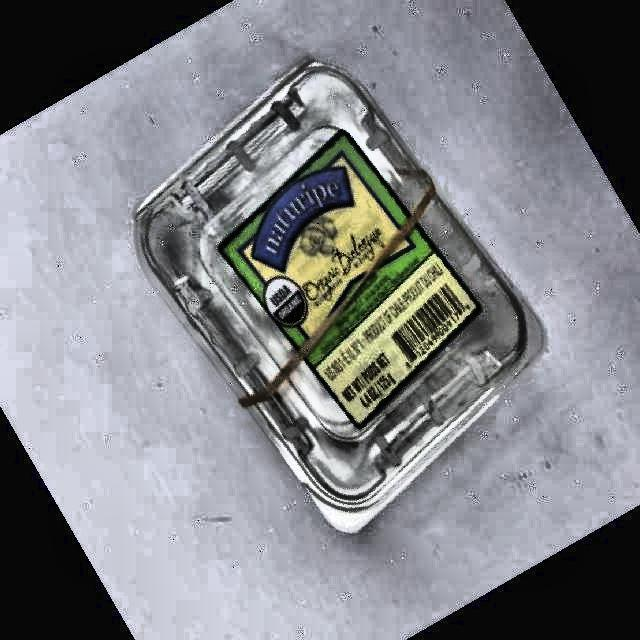plastic: (136, 60, 542, 531)
